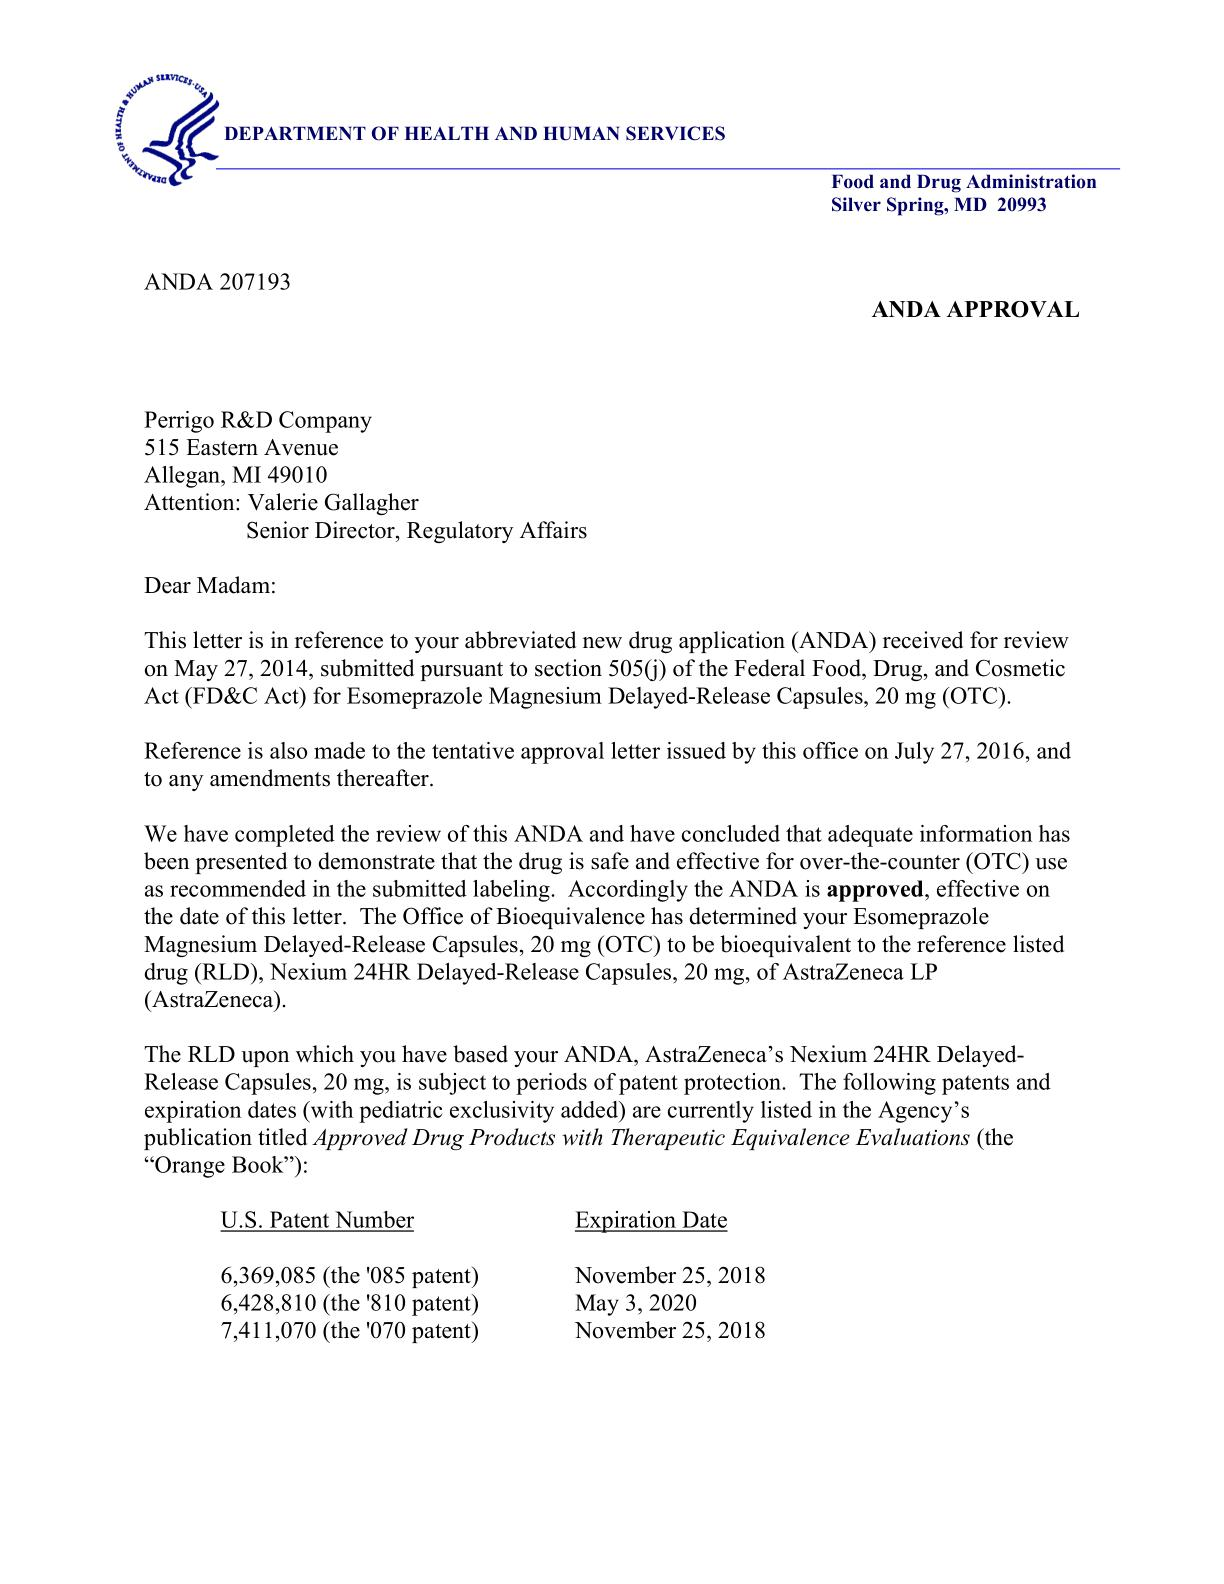nolines: (208, 1203, 771, 1351)
